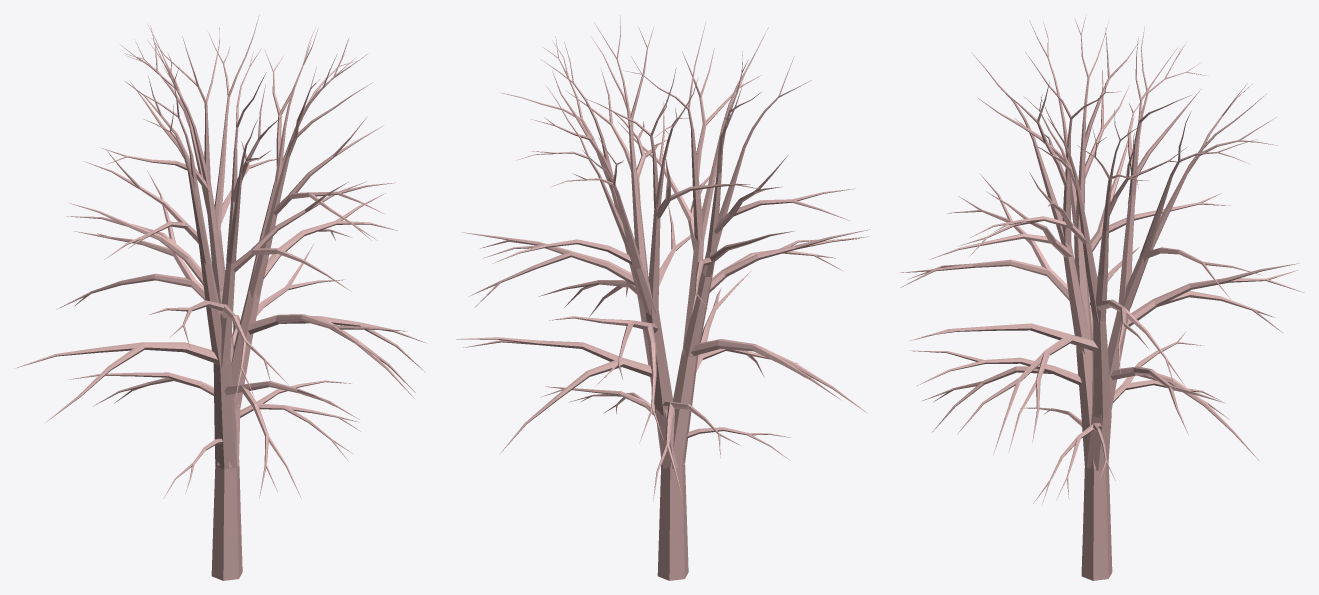
Rendered from lvl1_tree1.glb.
3 views of the same model, side by side, from view 1: azimuth 30°, elevation 25°; view 2: azimuth 150°, elevation 25°; view 3: azimuth 270°, elevation 25° (orthographic).
Visible parts, largest first — view 1: tree1; view 2: tree1; view 3: tree1.
Part boxes in pixels (x1=…): tree1: x1=14, y1=14, x2=427, y2=580; tree1: x1=456, y1=15, x2=870, y2=580; tree1: x1=899, y1=14, x2=1304, y2=580.
Size of the model in its own units: 12.5 by 16.83 by 11.72.
1 material, 1 textured.
